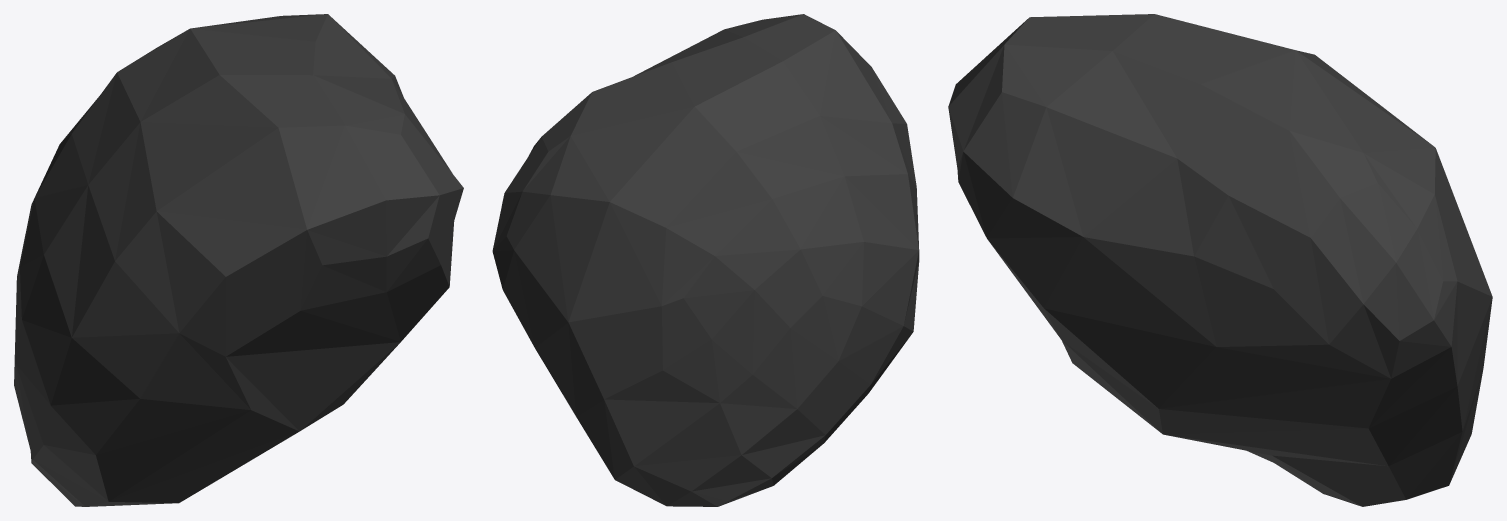
The model's file is RHL_femur2.glb.
3 renders of one model, left to right at view 1: azimuth 30°, elevation 25°; view 2: azimuth 150°, elevation 25°; view 3: azimuth 270°, elevation 25°, orthographic. The views are drawn at different scales.
Visible parts, largest first — view 1: RHL_femur2; view 2: RHL_femur2; view 3: RHL_femur2.
Part boxes in pixels (x1,y1,x2,y2): RHL_femur2: (14, 14, 463, 506); RHL_femur2: (492, 14, 919, 506); RHL_femur2: (948, 14, 1492, 506).
Bounding box in the file's own units: 7.94 × 8.91 × 9.09.
1 material, 1 textured.
